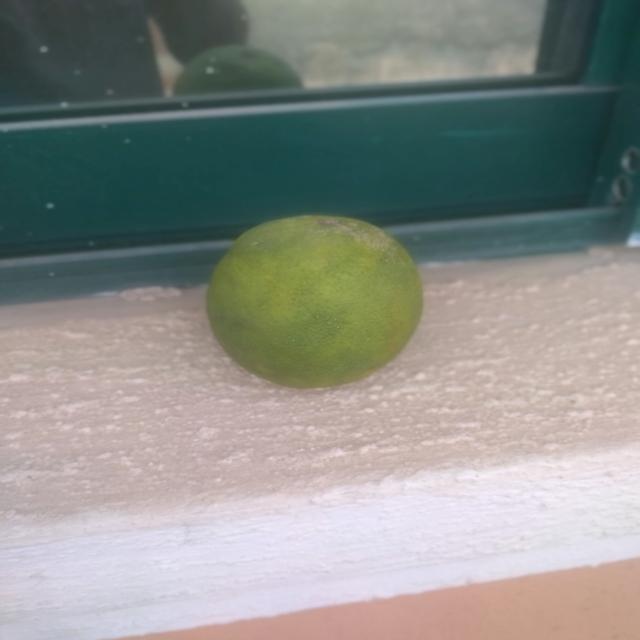Unripe: (170, 200, 465, 396)
